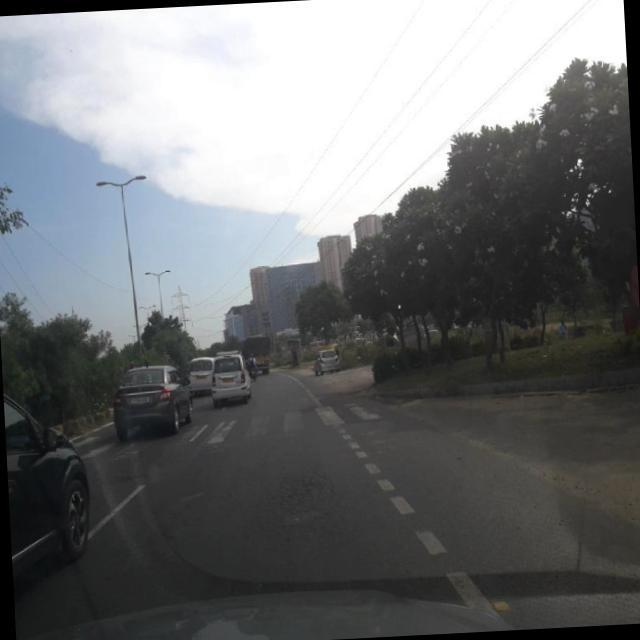crack: (224, 458, 404, 592), (39, 431, 219, 564)
